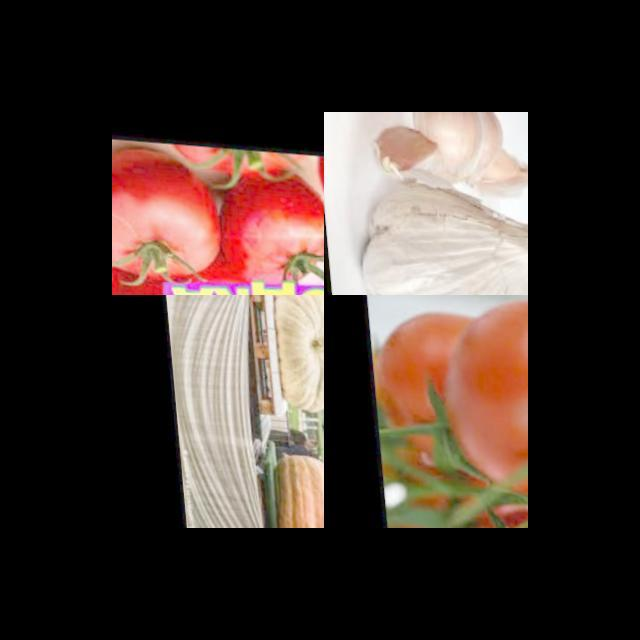garlic: (346, 170, 528, 295), (409, 112, 528, 201), (364, 114, 446, 184)
tomato: (372, 298, 492, 477), (441, 295, 528, 503), (112, 149, 220, 289), (210, 164, 324, 290), (391, 469, 492, 528), (174, 144, 308, 180)
